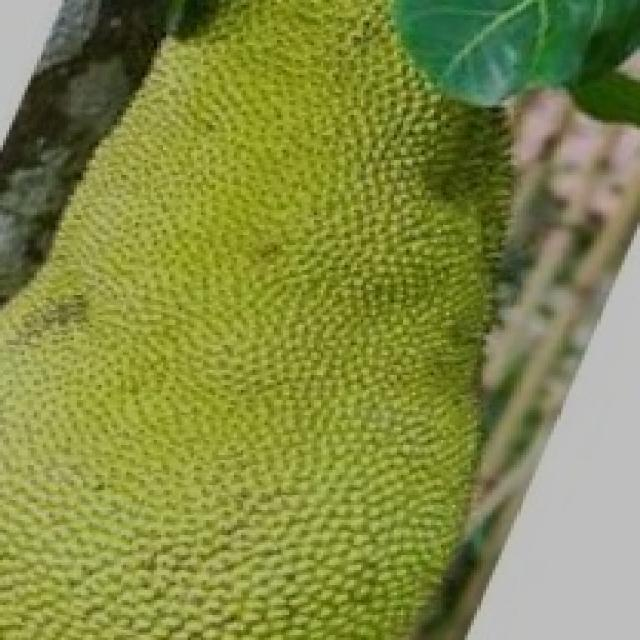Fruit: (218, 0, 606, 392), (0, 0, 385, 390), (231, 252, 554, 640)
